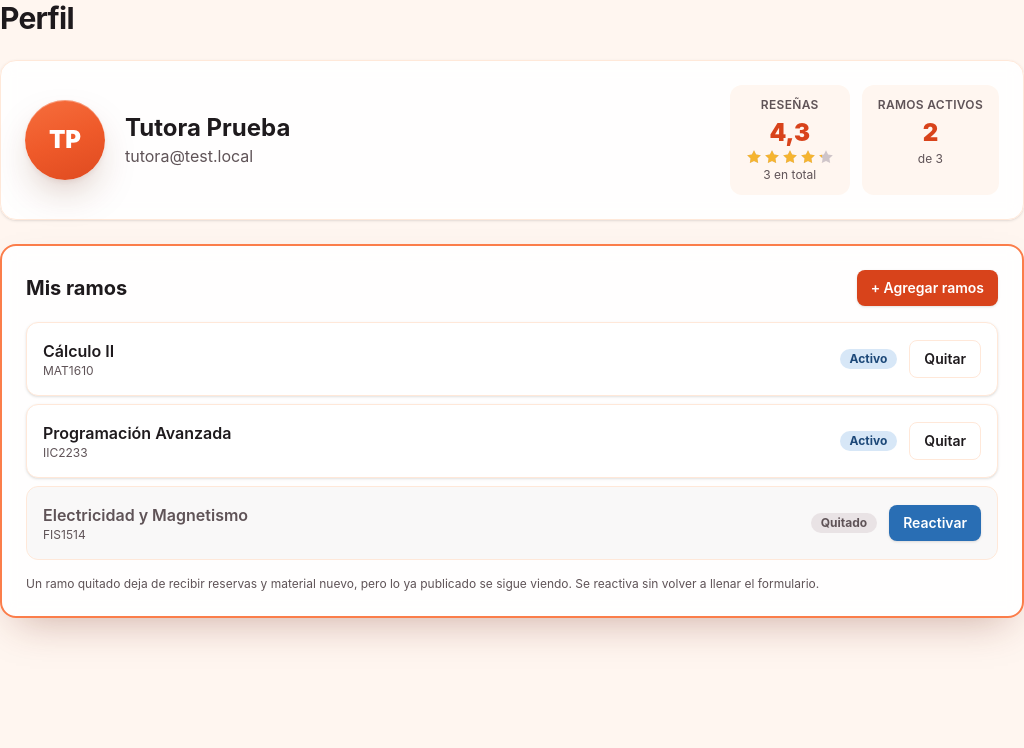
Perfil del tutor › agregar ramos solo ofrece los que no tiene
Click the button "+ Agregar ramos".
click(927, 288)  # box [857,270,998,306]
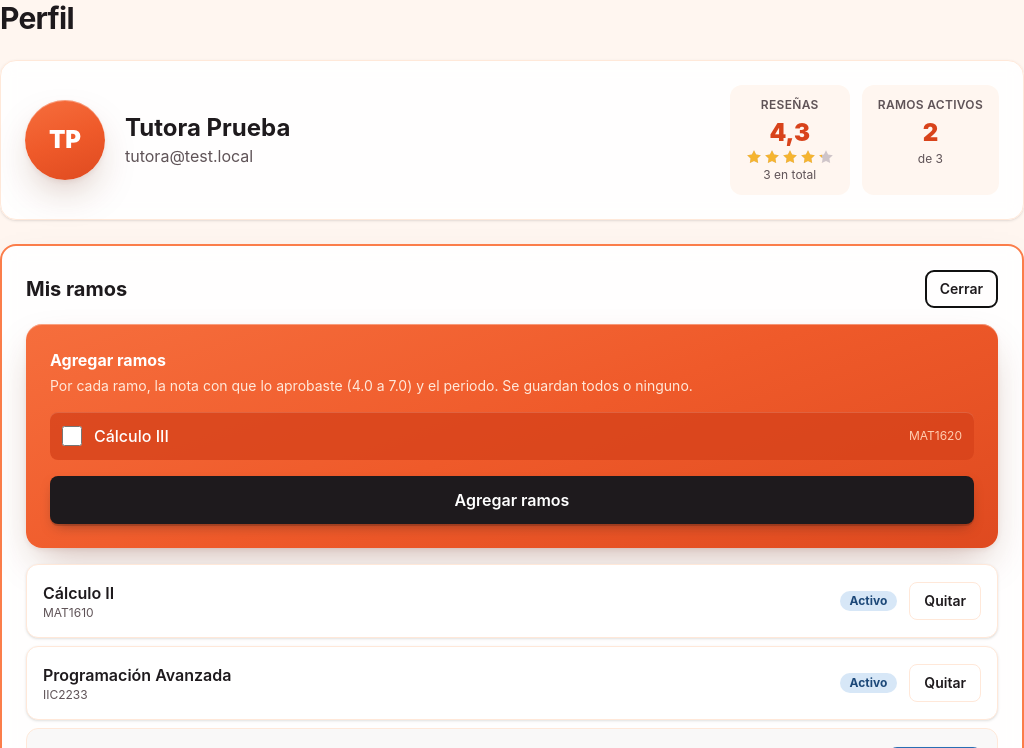
Now the number of checkboxes is 1, box [62,426,82,446]
